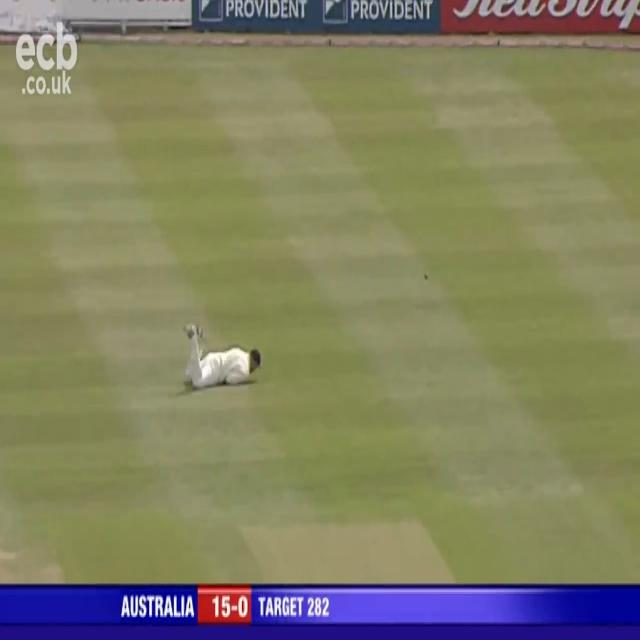ball: (424, 269, 431, 284)
